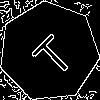T: (24, 26, 78, 81)
